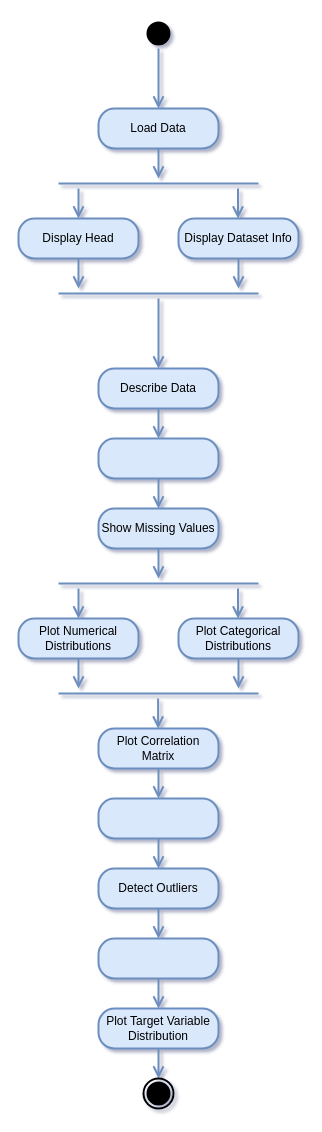
Some shapes in this 322 by 1132 pixel diagram are drawn without their labels. The shapes that lost their labels are listed below. From the top down, each one's box as (x1, y1, x2, y2) in pixels, then its label:
(97, 437, 219, 479): Show Unique Values
(97, 797, 219, 839): Show Duplicates
(97, 937, 219, 979): Check Inconsistencies
